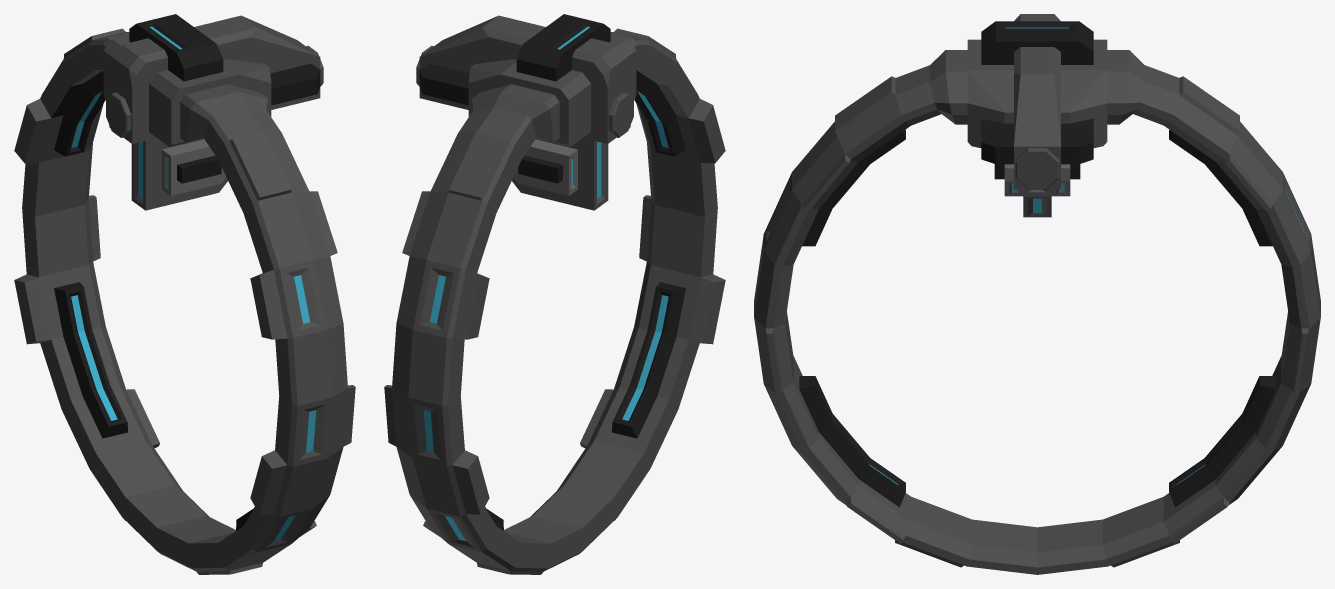
The model's file is artifact5.gltf.
The picture shows the model from 3 angles, left to right: view 1: azimuth 30°, elevation 25°; view 2: azimuth 150°, elevation 25°; view 3: azimuth 270°, elevation 25°; orthographic projection. The views are drawn at different scales.
Visible parts, largest first — view 1: Cube.003; view 2: Cube.003; view 3: Cube.003.
Part boxes in pixels (box(x1,y1,x2,y2)): Cube.003: box(14, 14, 355, 574); Cube.003: box(384, 14, 725, 574); Cube.003: box(754, 14, 1320, 574).
Size of the model in its own units: 10 by 24.95 by 24.
1 material, 1 textured.
